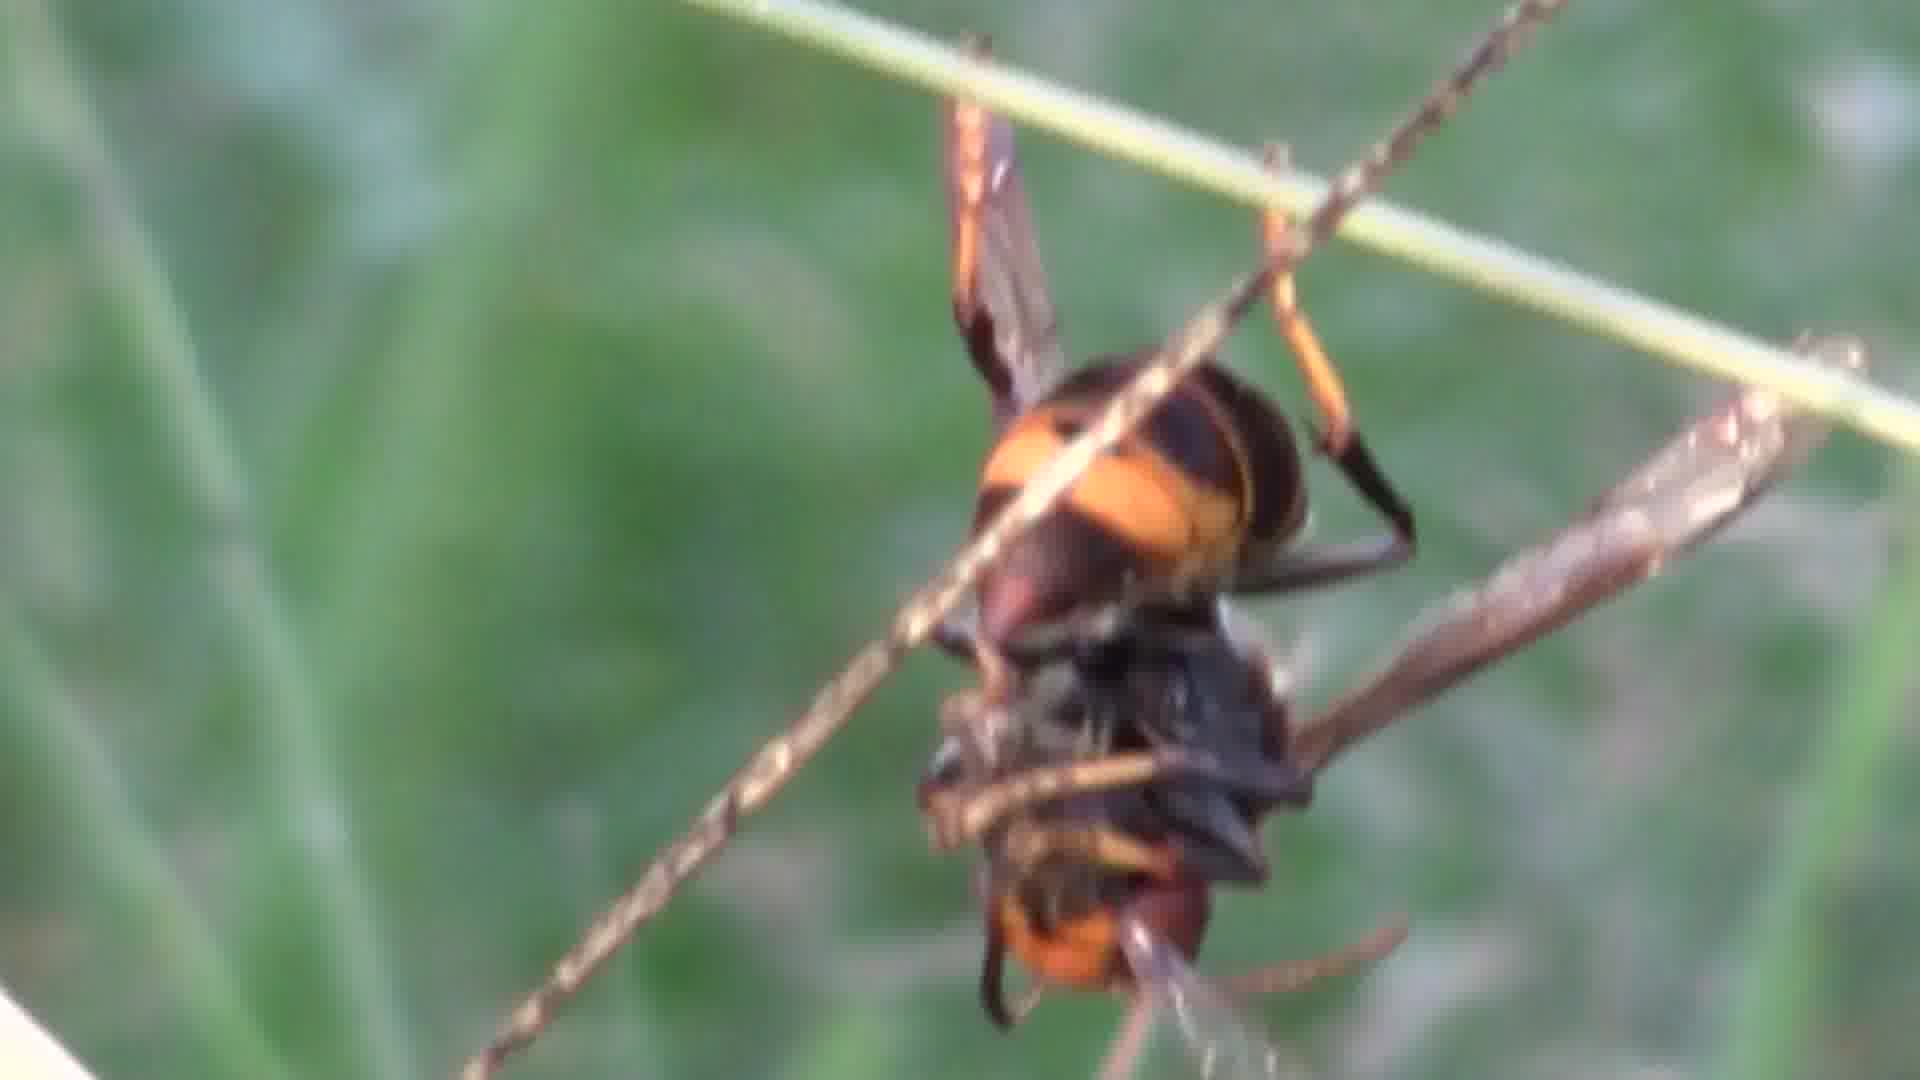hornet: (901, 119, 1466, 1065)
